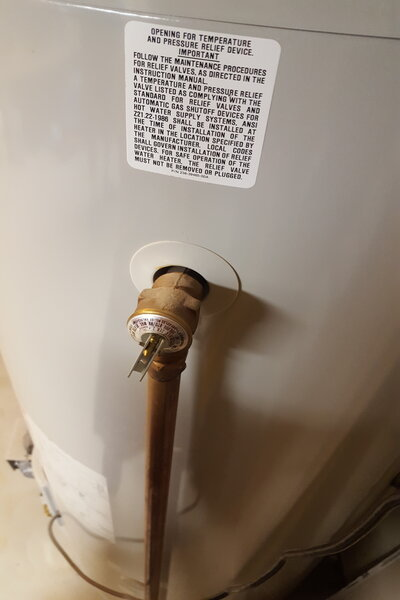valve: (126, 266, 208, 410)
